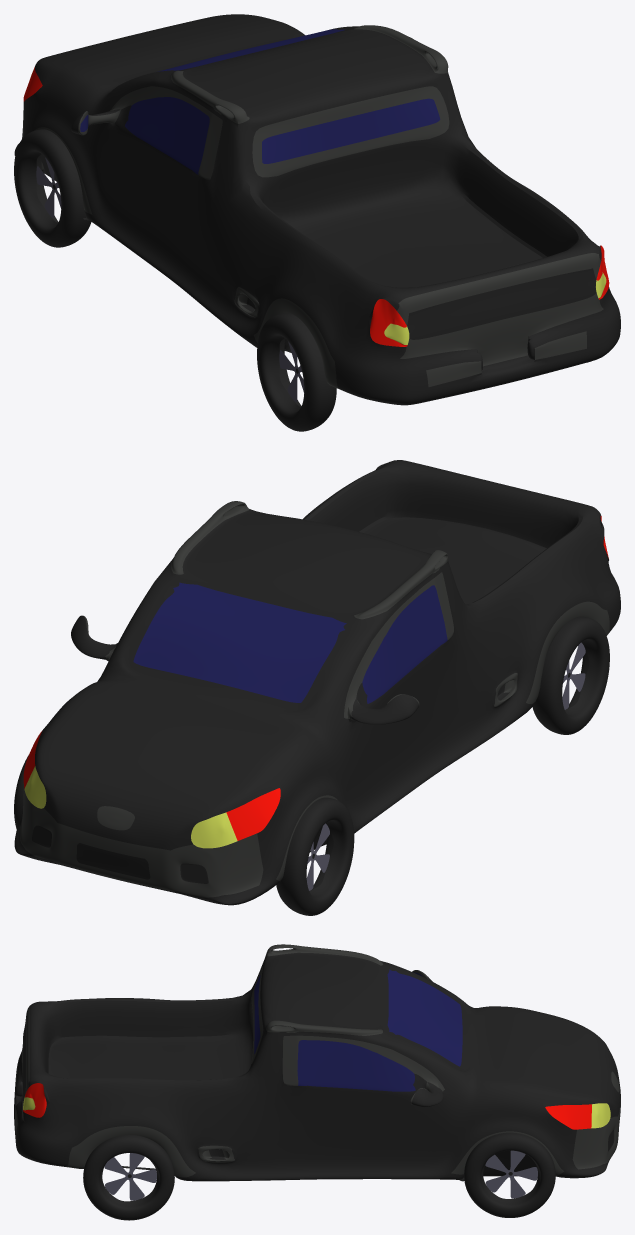
The model's file is Carrinho2.fbx.
3 views of the same model, one above another, from view 1: azimuth 30°, elevation 25°; view 2: azimuth 150°, elevation 25°; view 3: azimuth 270°, elevation 25° (orthographic). The views are drawn at different scales.
Visible parts, largest first — view 1: Cube.001, Circle.004, Circle.002, Cube.003, Circle.005, Circle.003; view 2: Cube.001, Circle.002, Circle.004, Cube.002, Circle.003, Circle.005; view 3: Cube.001, Circle.004, Circle.002, Cube.002, Circle.005, Circle.003, Cube.003.
Boxes of the visible parts, x1,y1,x2,y2 form: Cube.001: (14, 14, 620, 405); Circle.004: (257, 313, 587, 431); Circle.002: (14, 129, 91, 247); Cube.003: (370, 245, 609, 346); Circle.005: (36, 157, 61, 218); Circle.003: (279, 341, 304, 402); Cube.001: (14, 460, 620, 905); Circle.002: (14, 755, 354, 915); Circle.004: (532, 616, 609, 734); Cube.002: (23, 731, 280, 848); Circle.003: (562, 642, 585, 709); Circle.005: (306, 823, 329, 890); Cube.001: (14, 944, 620, 1181); Circle.004: (83, 1135, 174, 1220); Circle.002: (464, 1132, 555, 1217); Cube.002: (545, 1103, 610, 1129); Circle.005: (485, 1150, 537, 1198); Circle.003: (104, 1153, 156, 1200); Cube.003: (23, 1083, 46, 1117).
Size of the model in its own units: 1373 by 921 by 2766.
